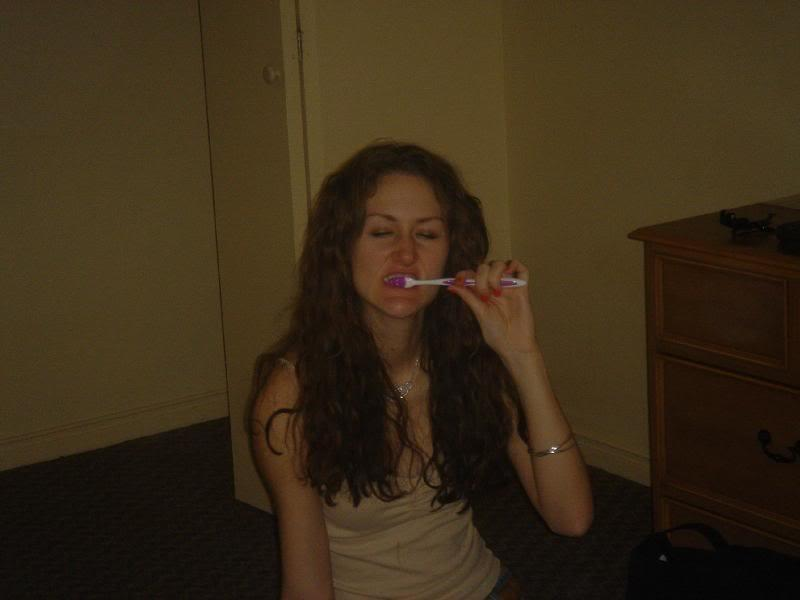person: (241, 145, 597, 598)
